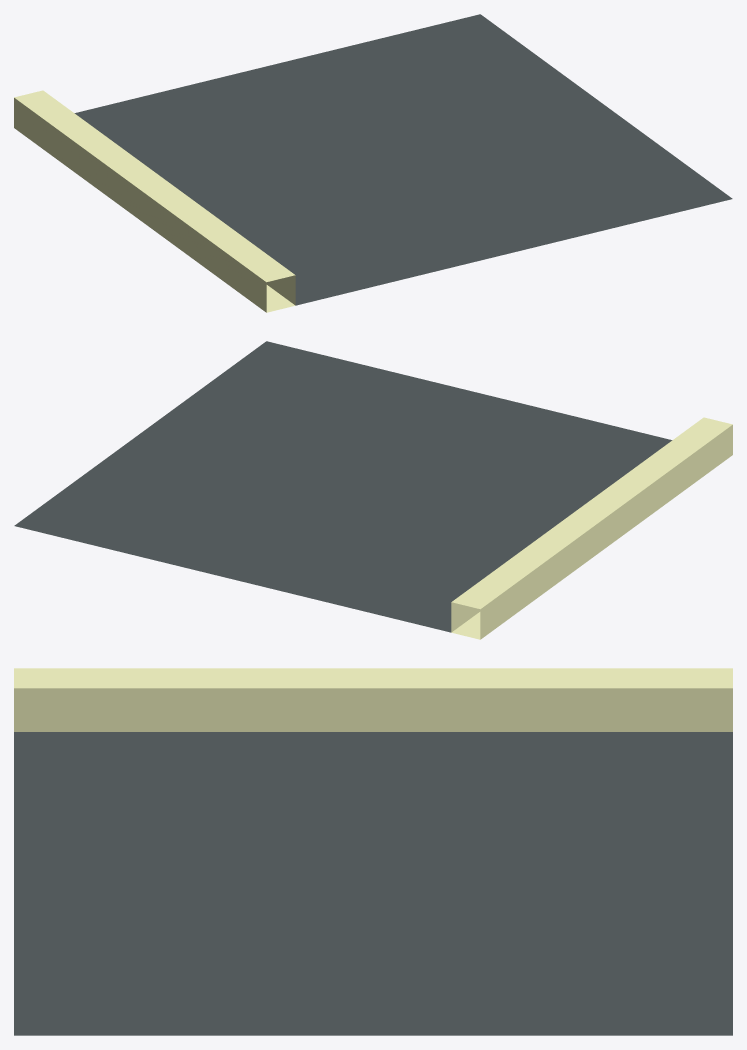
File: road_edge1_left.fbx
3 views of the same model, one above another, from view 1: azimuth 30°, elevation 25°; view 2: azimuth 150°, elevation 25°; view 3: azimuth 270°, elevation 25° (orthographic). The views are drawn at different scales.
Parts seen in each view (by area): view 1: pPlane1, pPlane2; view 2: pPlane1, pPlane2; view 3: pPlane1, pPlane2.
Part boxes in pixels (x1,y1,x2,y2): pPlane1: (74, 14, 732, 305); pPlane2: (14, 90, 295, 312); pPlane1: (14, 341, 672, 632); pPlane2: (451, 417, 732, 639); pPlane1: (14, 732, 732, 1035); pPlane2: (14, 668, 732, 731).
Bounding box in the file's own units: 107 × 6.67 × 100.
